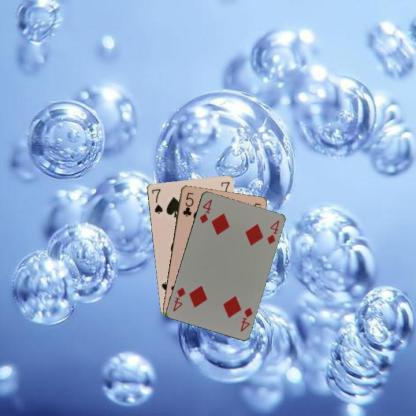4d: (237, 305, 254, 332), (197, 197, 213, 224)
5c: (180, 189, 194, 218)
7s: (149, 186, 164, 215)
